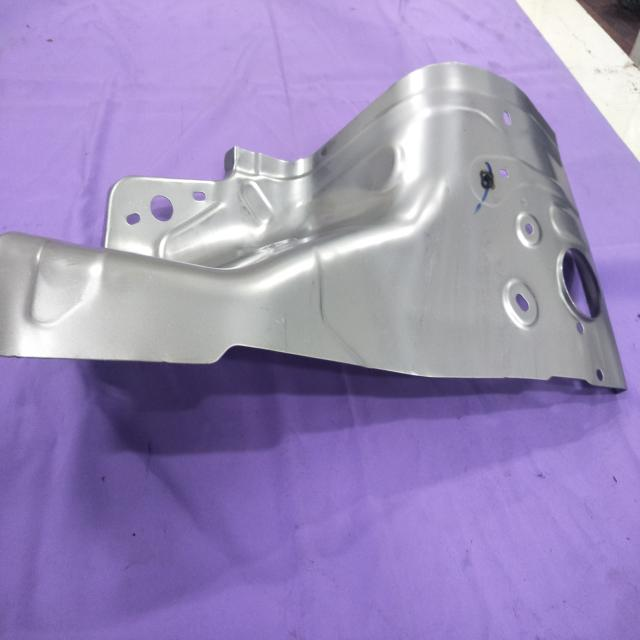Healthy: (2, 59, 627, 396)
